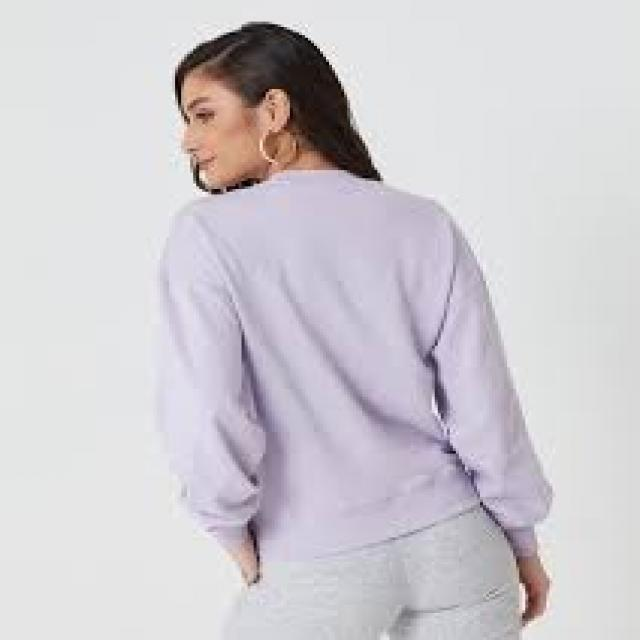plain: (150, 176, 556, 544)
